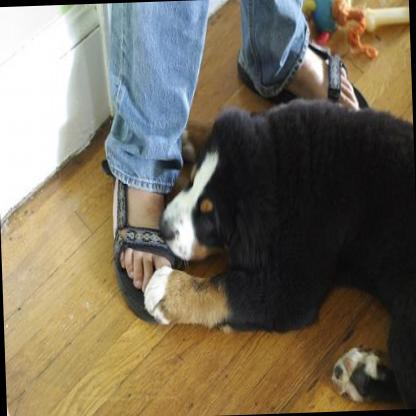Bernese_mountain_dog: (132, 96, 416, 416)
